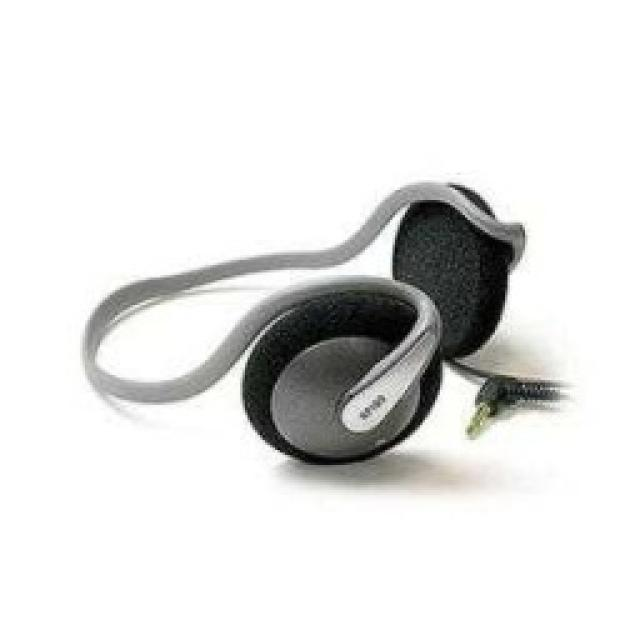headphones: (80, 177, 568, 465)
